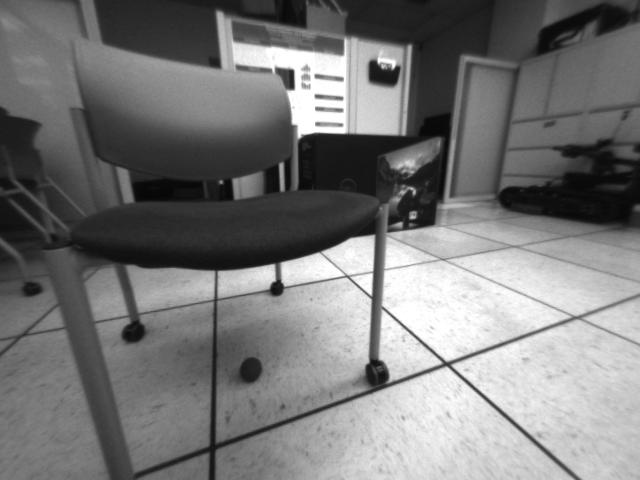dogtoy: (232, 350, 268, 385)
